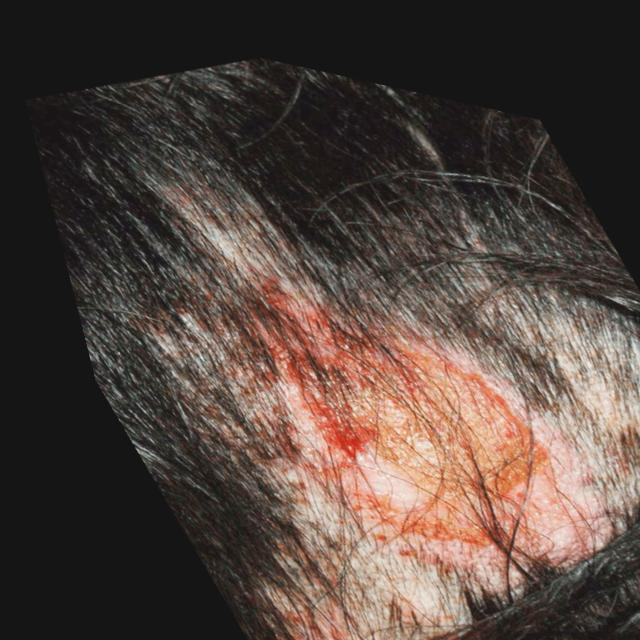viem da do vi khuan (cho): (18, 39, 640, 640)
